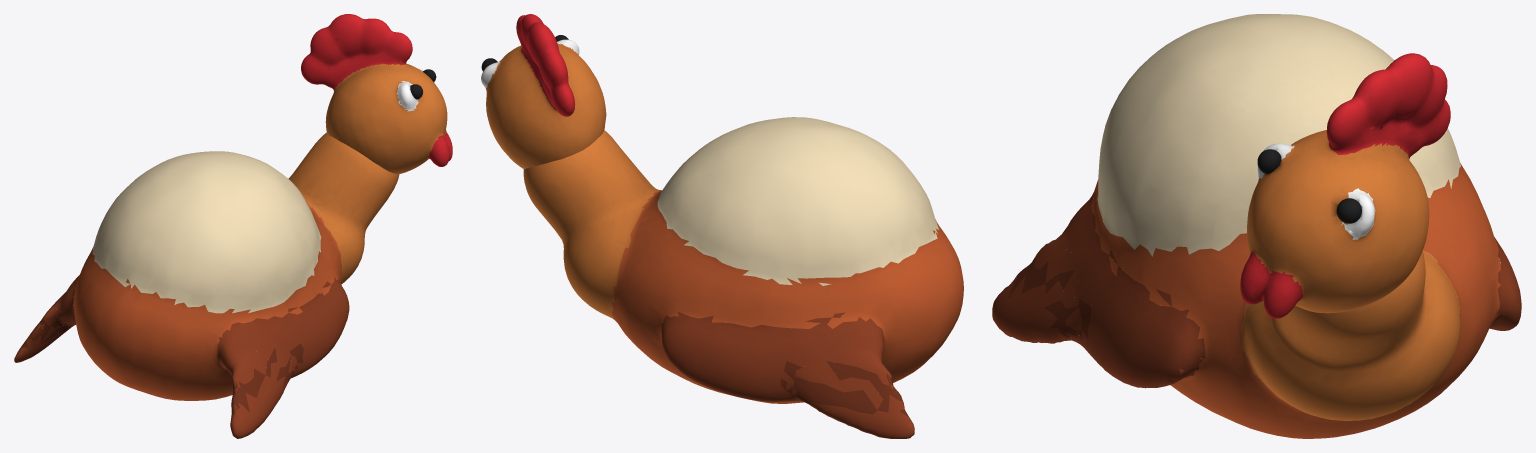
The model's file is jag-ar-matt.glb.
3 views of the same model, side by side, from view 1: azimuth 30°, elevation 25°; view 2: azimuth 150°, elevation 25°; view 3: azimuth 270°, elevation 25° (orthographic). The views are drawn at different scales.
Visible parts, largest first — view 1: galo__r0, cabeca__r0; view 2: galo__r0, cabeca__r0; view 3: galo__r0, cabeca__r0, cabeca__r2.
Part boxes in pixels (box(x1,y1,x2,y2)): galo__r0: box(14, 132, 399, 438); cabeca__r0: box(301, 14, 452, 174); galo__r0: box(523, 117, 963, 438); cabeca__r0: box(481, 14, 606, 168); galo__r0: box(992, 14, 1521, 438); cabeca__r0: box(1240, 53, 1450, 318); cabeca__r2: box(1336, 198, 1361, 223).
Size of the model in its own units: 1.61 by 1.16 by 1.13.
